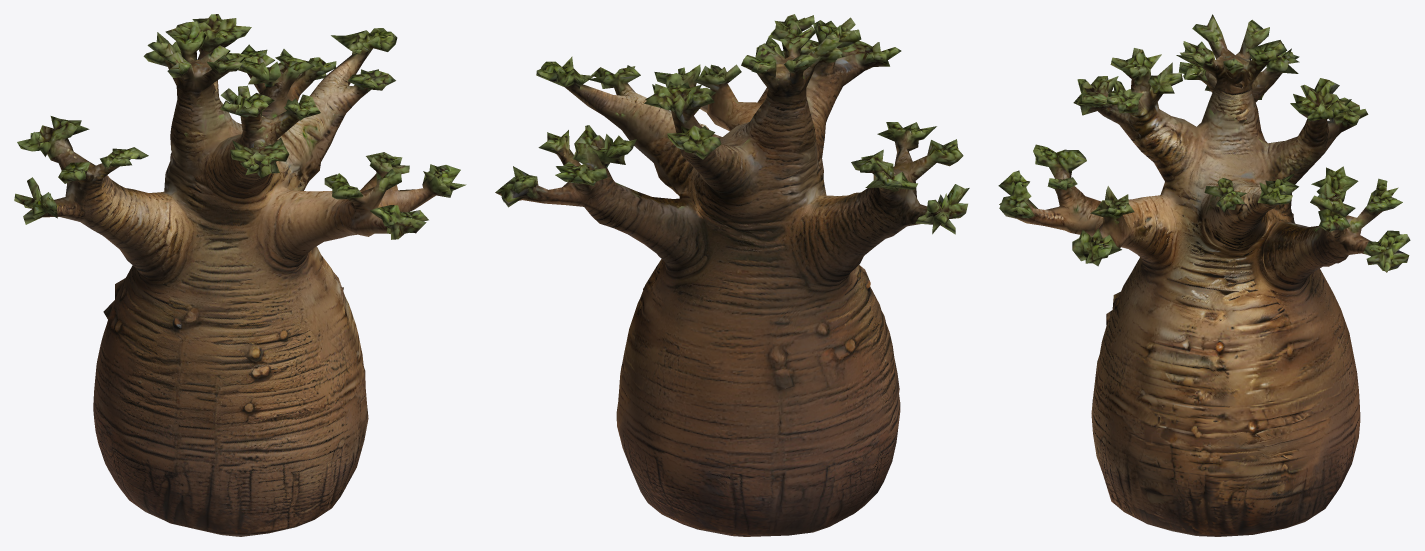
The model's file is baobab.glb.
3 views of the same model, side by side, from view 1: azimuth 30°, elevation 25°; view 2: azimuth 150°, elevation 25°; view 3: azimuth 270°, elevation 25° (orthographic). The views are drawn at different scales.
Visible parts, largest first — view 1: tripo_node_18374d5d-2b85-4575-8347-a07b239921d0; view 2: tripo_node_18374d5d-2b85-4575-8347-a07b239921d0; view 3: tripo_node_18374d5d-2b85-4575-8347-a07b239921d0.
Part boxes in pixels (left/top/right/bottom): tripo_node_18374d5d-2b85-4575-8347-a07b239921d0: left=14, top=14, right=466, bottom=536; tripo_node_18374d5d-2b85-4575-8347-a07b239921d0: left=495, top=14, right=969, bottom=536; tripo_node_18374d5d-2b85-4575-8347-a07b239921d0: left=998, top=14, right=1410, bottom=536.
Bounding box in the file's own units: 0.8905 × 0.9965 × 0.8336.
Materials: 1 (1 with a texture image).
